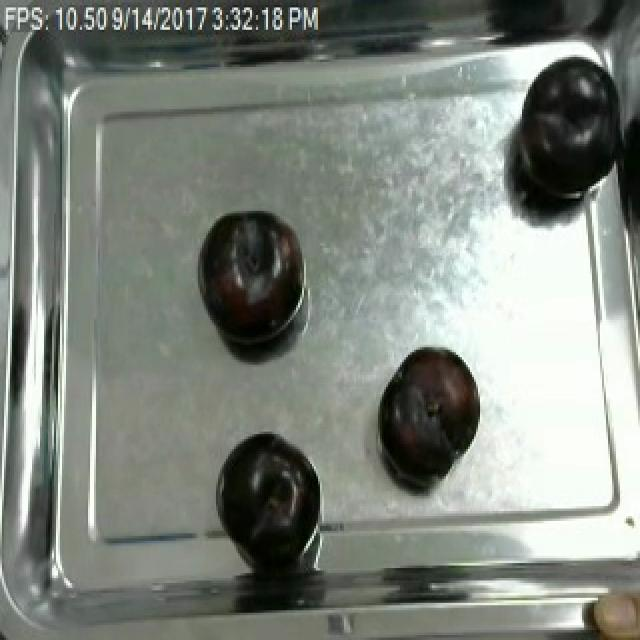Fruit: (502, 45, 620, 218), (194, 203, 304, 350), (374, 340, 484, 484), (214, 429, 320, 553)
